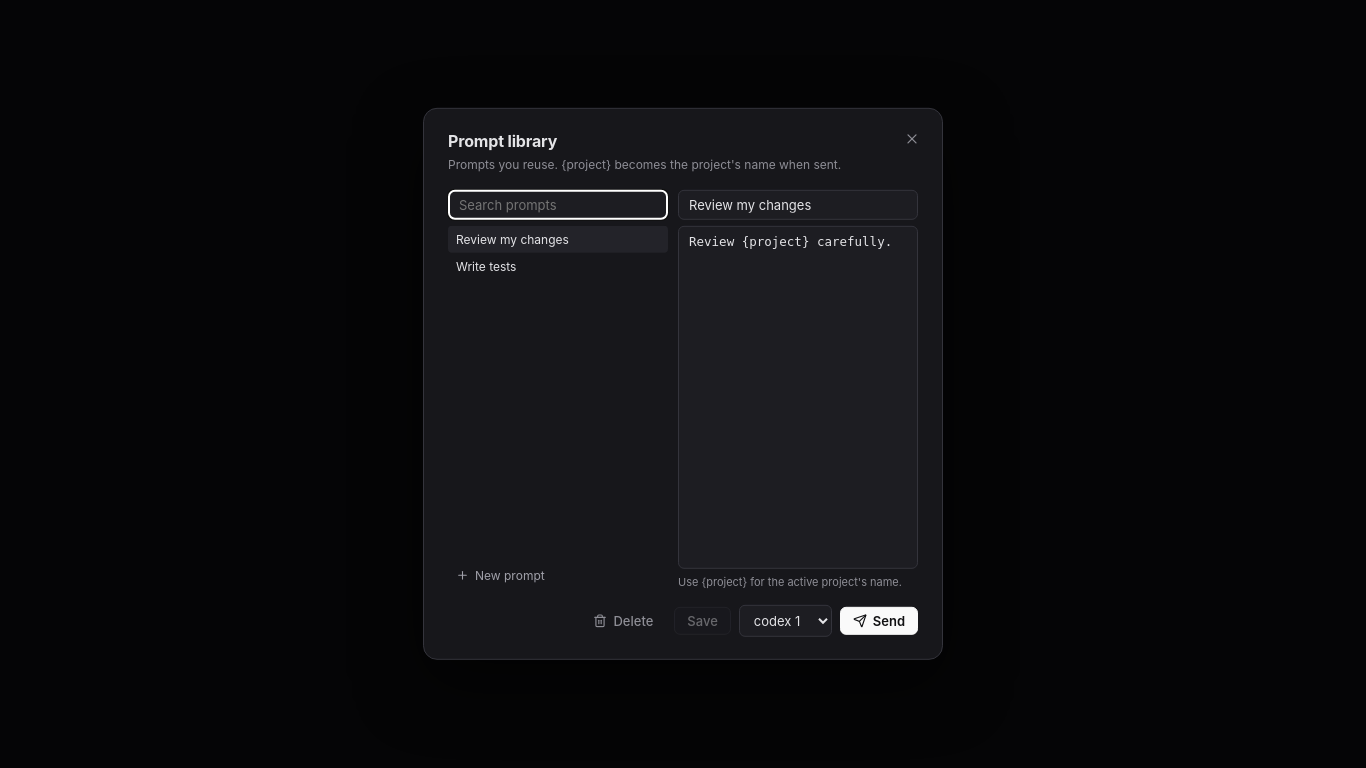
Test: PromptLibraryDialog › Given a target agent, when sending, then the prompt is filled with the project and typed into its terminal
Select "claude 1" in the dropdown named "Send to" at (785, 621), box [739, 605, 832, 637]
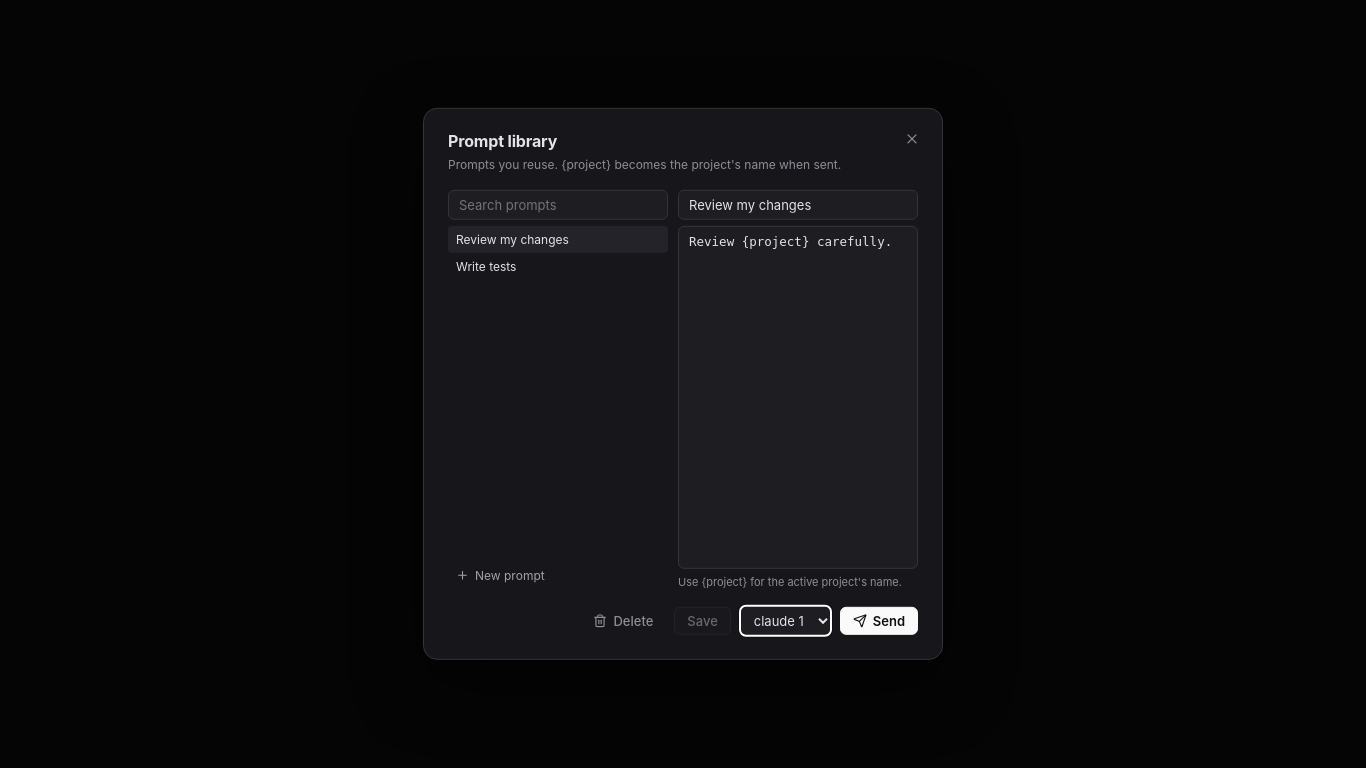
Click the button "Send" at (879, 621), box [840, 607, 918, 635]
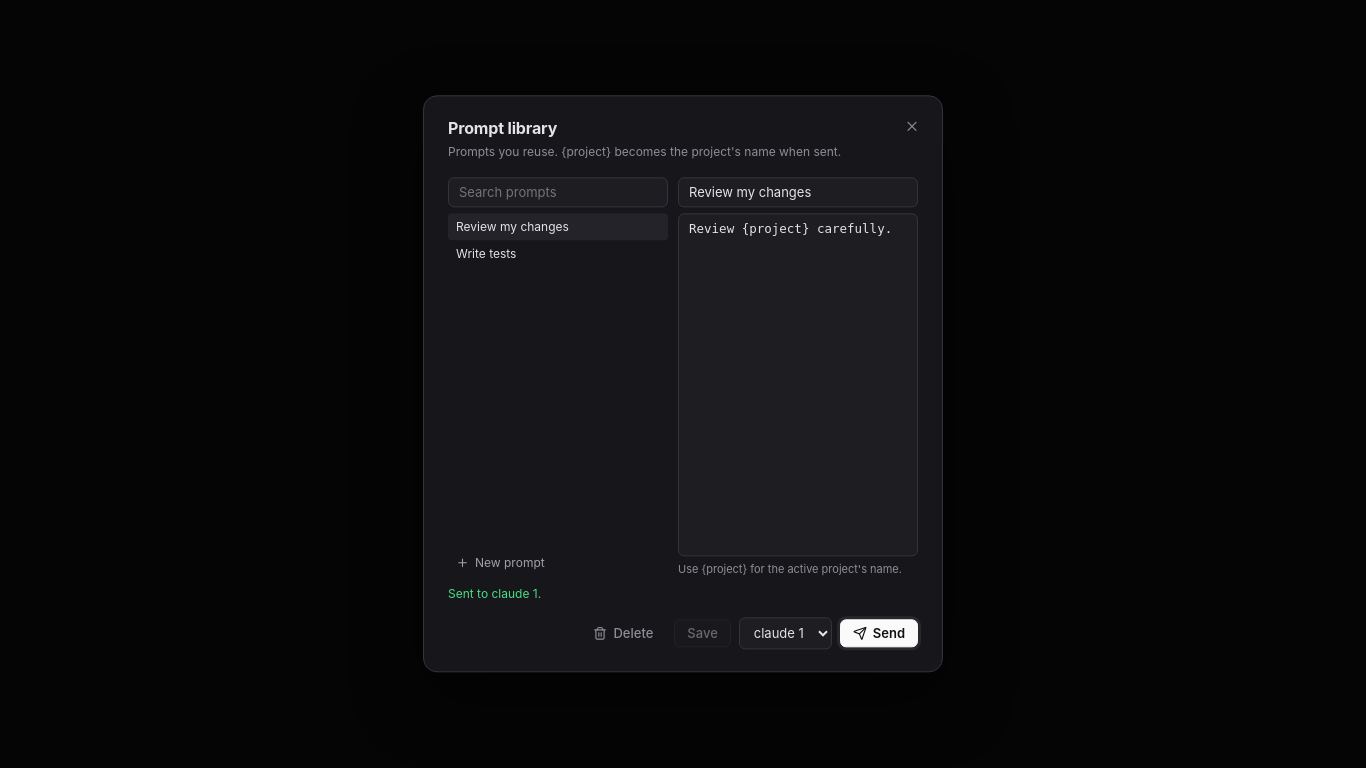
Now the message reads "Sent to claude 1.", box [448, 587, 541, 602]
